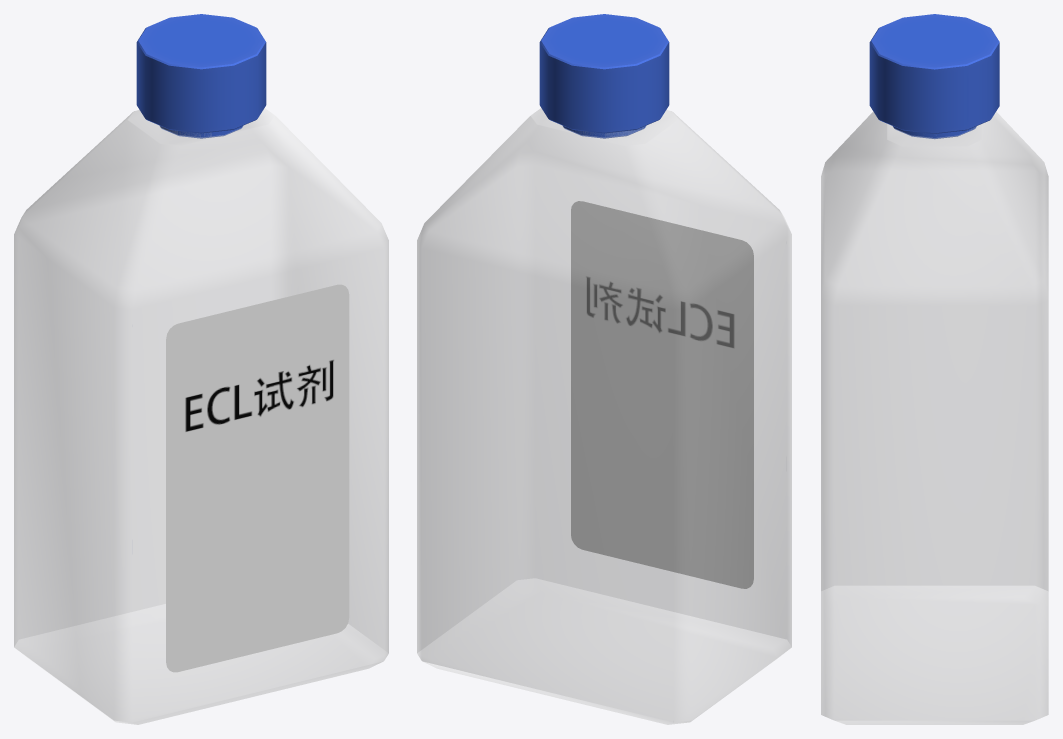
The model's file is ECL试剂.glb.
The picture shows the model from 3 angles, left to right: view 1: azimuth 30°, elevation 25°; view 2: azimuth 150°, elevation 25°; view 3: azimuth 270°, elevation 25°; orthographic projection.
Visible parts, largest first — view 1: ECL试剂, 对象013.001, Cylinder022.001; view 2: ECL试剂, 对象013.001, Cylinder022.001; view 3: ECL试剂, Cylinder022.001.
Part boxes in pixels (box(x1,y1,x2,y2)): ECL试剂: box(14, 108, 388, 724); 对象013.001: box(166, 284, 349, 672); Cylinder022.001: box(136, 14, 266, 138); ECL试剂: box(417, 108, 791, 724); 对象013.001: box(571, 201, 753, 588); Cylinder022.001: box(539, 14, 669, 138); ECL试剂: box(821, 112, 1048, 724); Cylinder022.001: box(869, 14, 999, 139).
Size of the model in its own units: 0.0488 by 0.1047 by 0.0349.
1 material, 1 textured.
